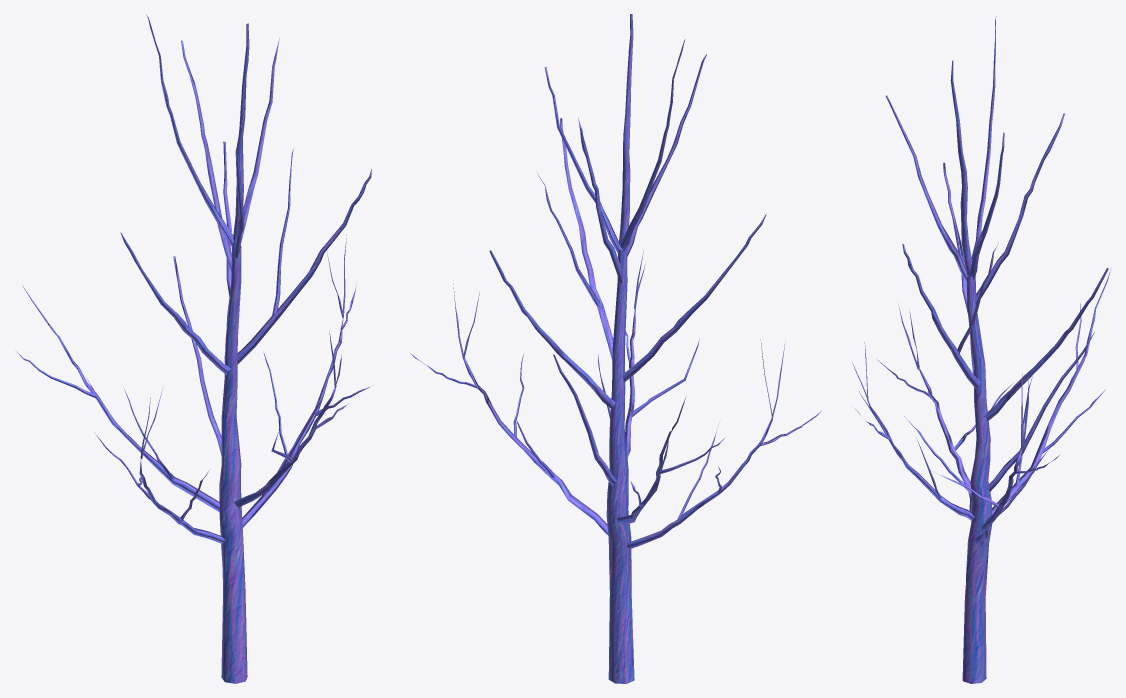
Rendered from Presid_Tree_trunkB.FBX.
The picture shows the model from 3 angles, left to right: view 1: azimuth 30°, elevation 25°; view 2: azimuth 150°, elevation 25°; view 3: azimuth 270°, elevation 25°; orthographic projection. The views are drawn at different scales.
Parts seen in each view (by area): view 1: Presid_Tree_trunkB; view 2: Presid_Tree_trunkB; view 3: Presid_Tree_trunkB.
Part boxes in pixels (x1=…): Presid_Tree_trunkB: x1=16, y1=14, x2=373, y2=683; Presid_Tree_trunkB: x1=410, y1=14, x2=821, y2=683; Presid_Tree_trunkB: x1=852, y1=16, x2=1111, y2=683.
Size of the model in its own units: 4 by 7.77 by 2.92.
